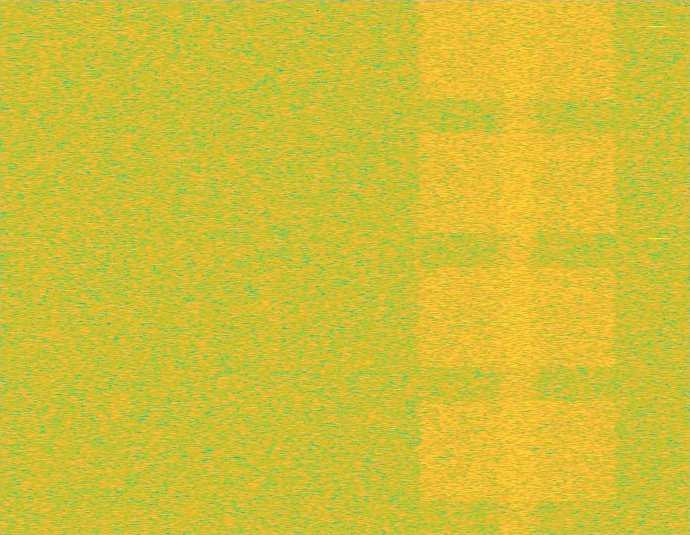5G: (414, 0, 621, 534)
DSSS: (494, 0, 541, 534)
Radar: (651, 0, 665, 534)
